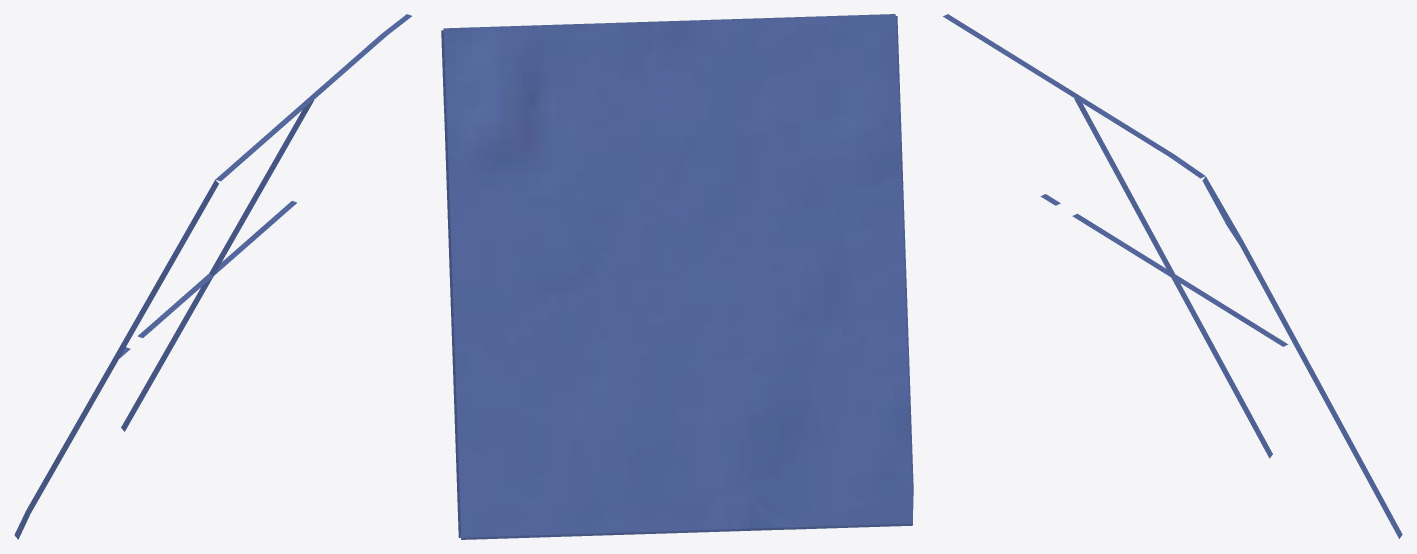
3 views of the same model, side by side, from view 1: azimuth 30°, elevation 25°; view 2: azimuth 150°, elevation 25°; view 3: azimuth 270°, elevation 25° (orthographic). The views are drawn at different scales.
Size of the model in its own units: 39367 by 35283 by 34958.
1 material, 1 textured.
